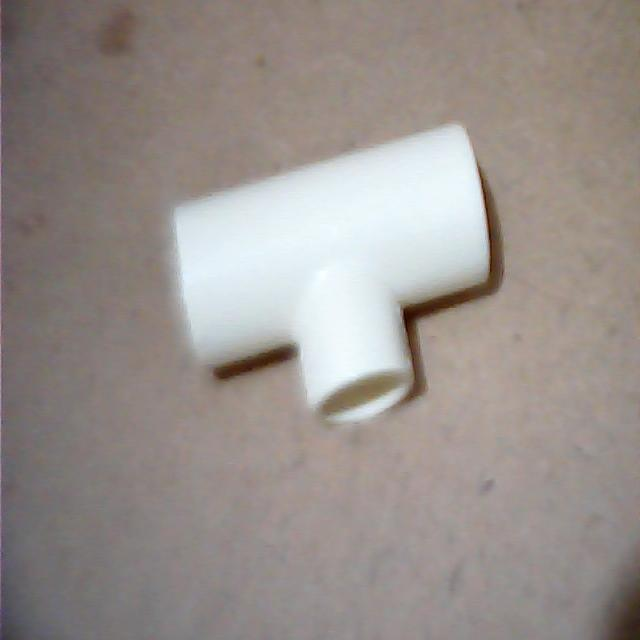T Joint: (170, 123, 503, 427)
